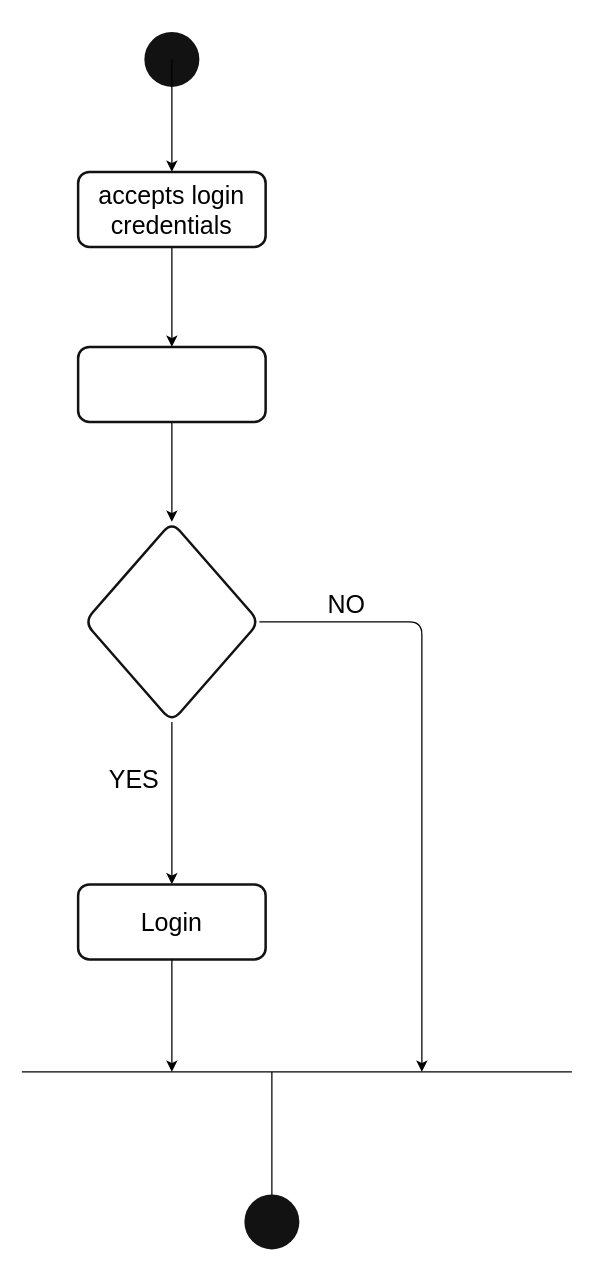
Some shapes in this 595 by 1280 pixel diagram are drawn without their labels. The box of each missing label's shape, as (x1, y1, x2, y2) in pixels:
checks database: (76, 345, 266, 422)
is Correct?: (82, 520, 260, 722)
